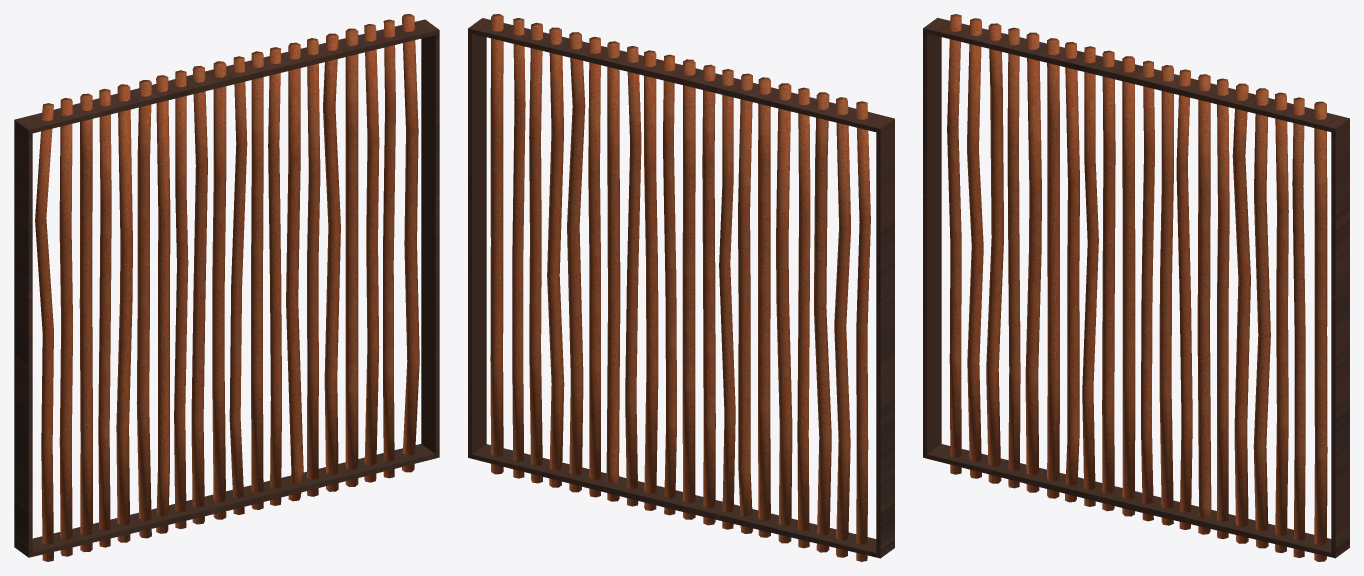
The model's file is baricadaArmatura.glb.
3 views of the same model, side by side, from view 1: azimuth 30°, elevation 25°; view 2: azimuth 150°, elevation 25°; view 3: azimuth 330°, elevation 25° (orthographic).
Visible parts, largest first — view 1: baricadaArmatura; view 2: baricadaArmatura; view 3: baricadaArmatura.
Part boxes in pixels (x1,y1,x2,y2): baricadaArmatura: (14, 14, 439, 561); baricadaArmatura: (468, 14, 894, 561); baricadaArmatura: (923, 14, 1349, 561).
Size of what is drawn, in the model's own units: 4.08 by 4.3 by 0.2468.
Materials: 2 (2 with a texture image).
